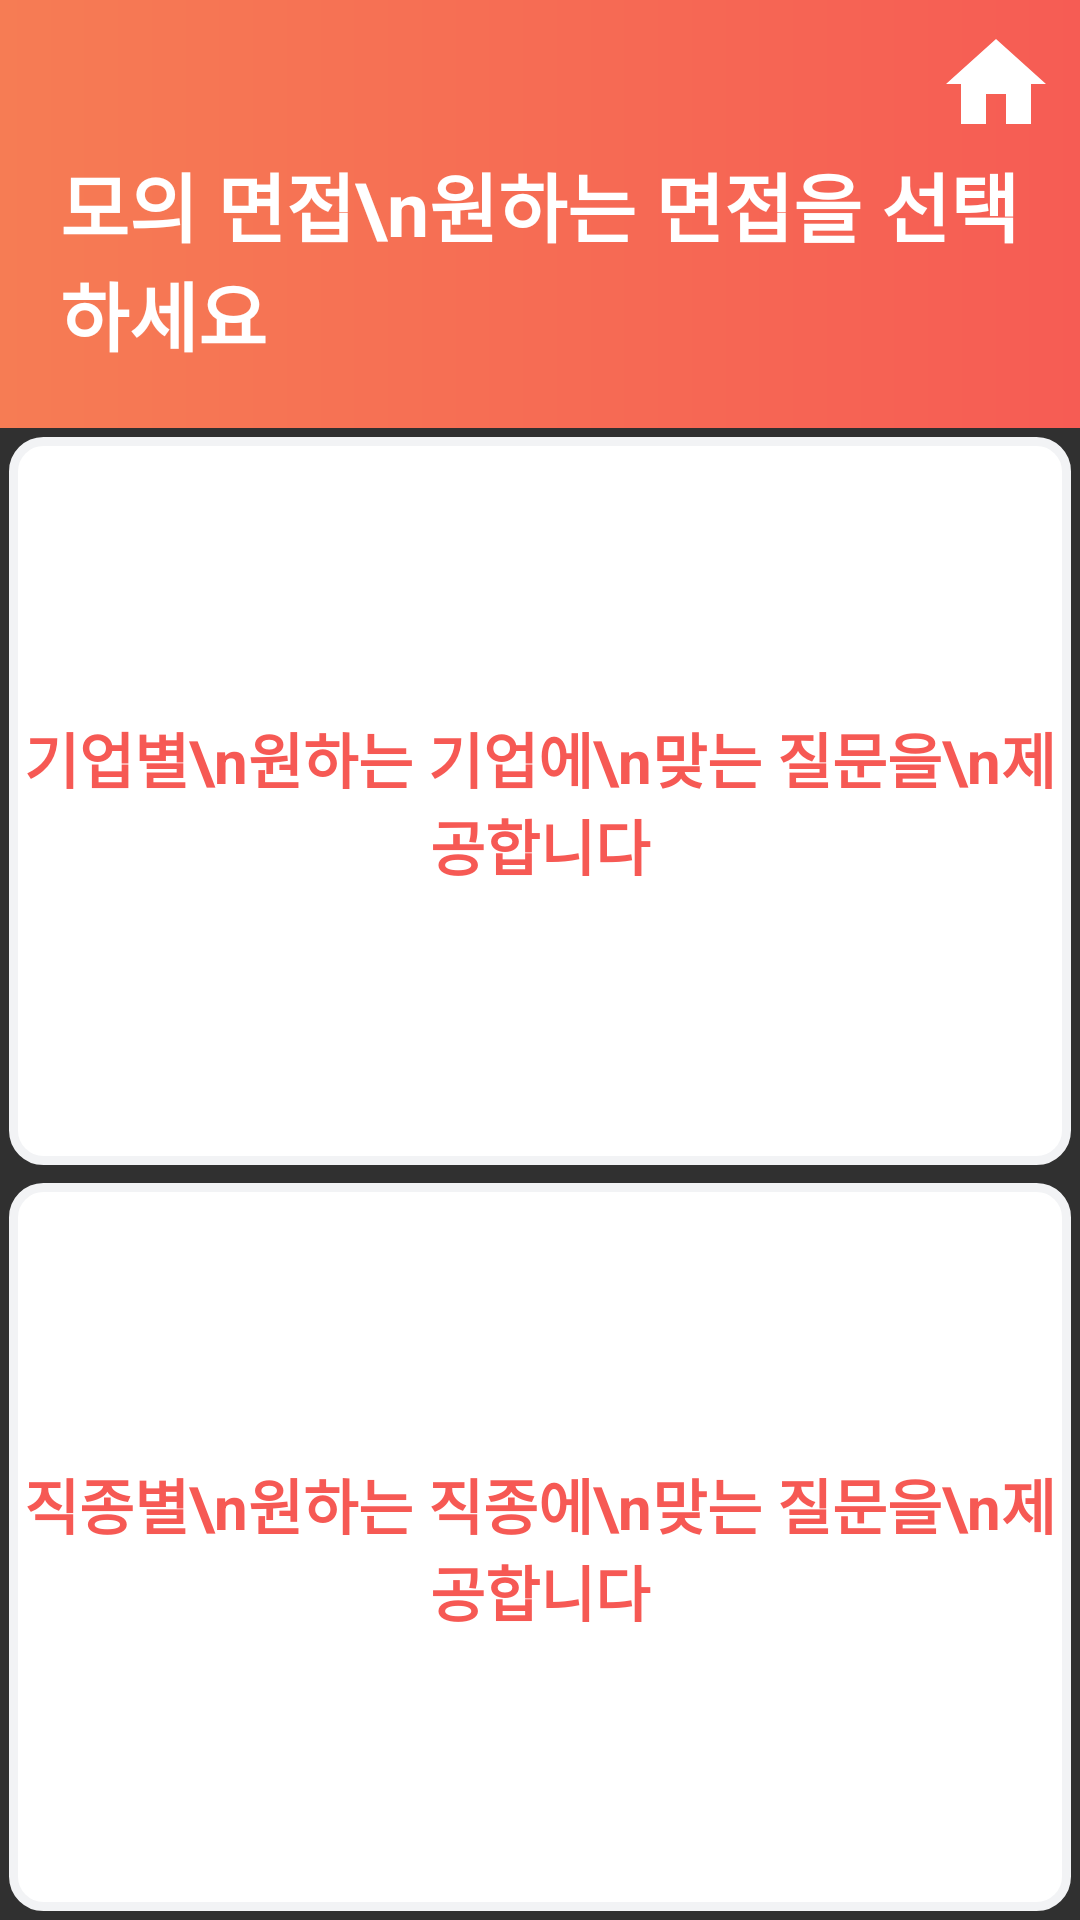

Icon click points for this 1080 x 1920 phone screenshot, format point (x, y):
home: point (996, 81)
